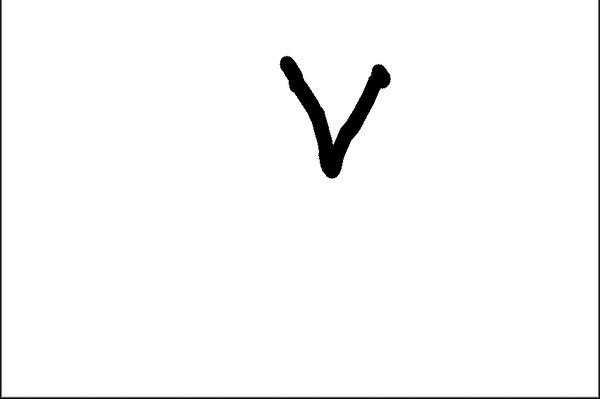V: (273, 43, 396, 179)
